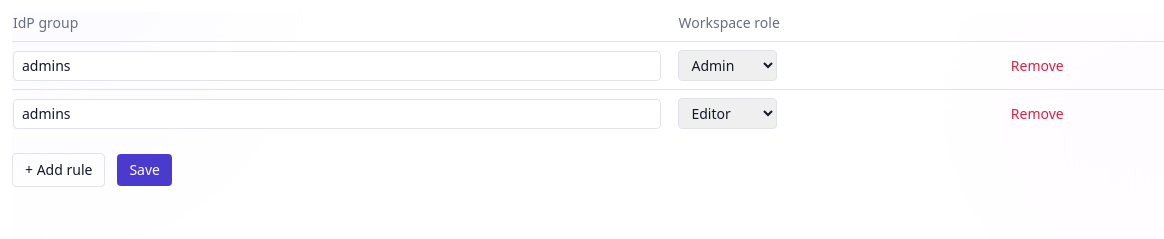
Test case: GroupRuleEditor › shows validation error for duplicate group names
Click the button with test id "group-rule-save" at [145, 170], box [117,154,172,186]
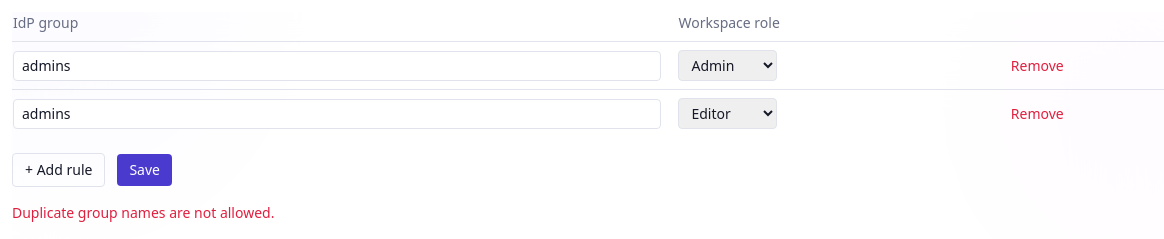
Expected: the message with test id "group-rule-error" shows "Duplicate", [12,203,274,222]
